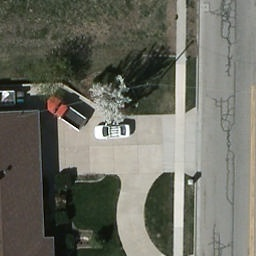car: (92, 121, 135, 137)
pickup: (41, 94, 89, 132), (0, 91, 17, 108)
